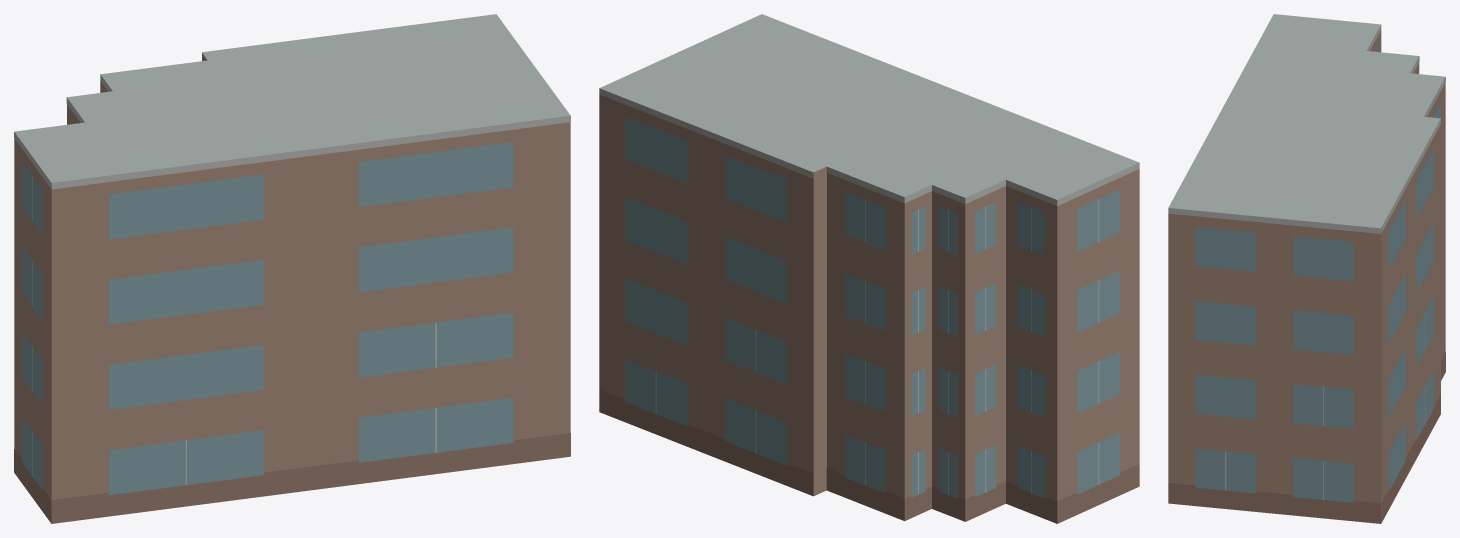
File: survey-upis-32820872.glb
The picture shows the model from 3 angles, left to right: view 1: azimuth 30°, elevation 25°; view 2: azimuth 150°, elevation 25°; view 3: azimuth 270°, elevation 25°; orthographic projection. The views are drawn at different scales.
Parts seen in each view (by area): view 1: survey-upis-32820872.tmp; view 2: survey-upis-32820872.tmp; view 3: survey-upis-32820872.tmp.
Boxes of the visible parts, x1=… form: survey-upis-32820872.tmp: x1=14, y1=14, x2=570, y2=523; survey-upis-32820872.tmp: x1=599, y1=14, x2=1139, y2=523; survey-upis-32820872.tmp: x1=1168, y1=14, x2=1445, y2=523.
Bounding box in the file's own units: 19.92 × 12.8 × 10.91.
